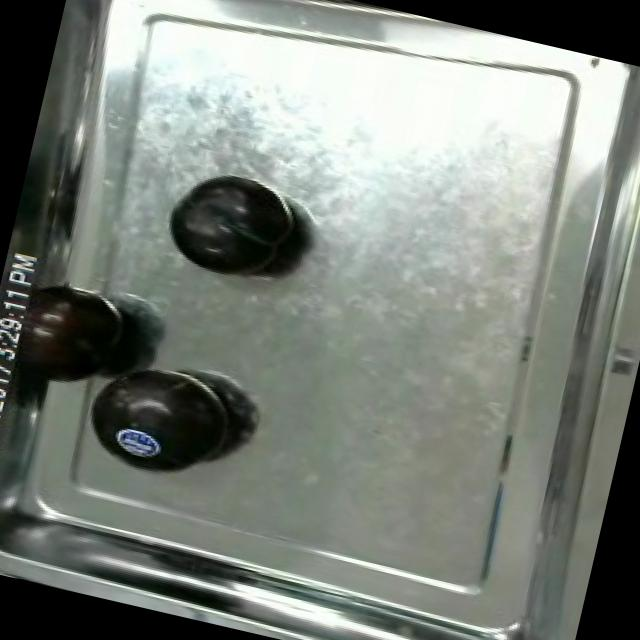Fruit: (152, 162, 312, 296), (102, 416, 174, 471)
